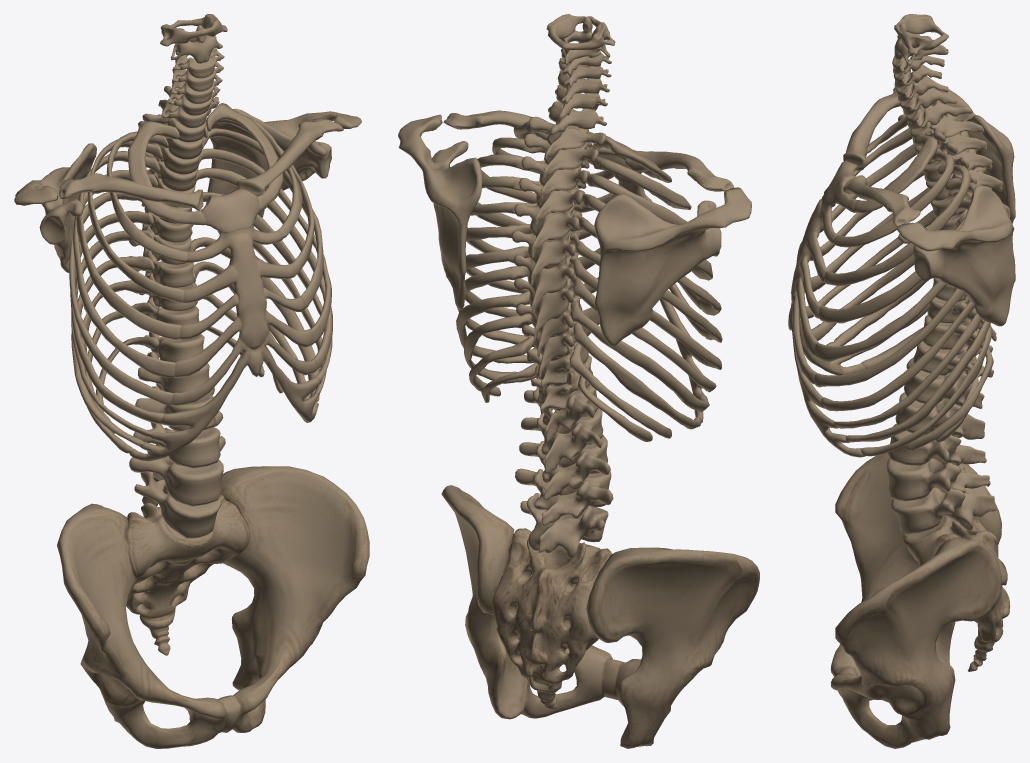
Rendered from Female_Torso_Skeleton.FBX.
The picture shows the model from 3 angles, left to right: view 1: azimuth 30°, elevation 25°; view 2: azimuth 150°, elevation 25°; view 3: azimuth 270°, elevation 25°; orthographic projection. The views are drawn at different scales.
Visible parts, largest first — view 1: Pelvis, Ribcage, Spine, Arm_L, Arm_R; view 2: Pelvis, Spine, Ribcage, Arm_R, Arm_L; view 3: Ribcage, Pelvis, Spine, Arm_L, Arm_R.
Boxes of the visible parts, x1,y1,x2,y2 form: Pelvis: (57, 466, 369, 748); Ribcage: (69, 103, 332, 461); Spine: (129, 14, 227, 538); Arm_L: (207, 108, 361, 234); Arm_R: (14, 143, 203, 272); Pelvis: (441, 485, 759, 748); Spine: (511, 14, 615, 558); Ribcage: (456, 121, 722, 441); Arm_R: (594, 151, 751, 346); Arm_L: (398, 110, 589, 310); Ribcage: (788, 105, 993, 457); Pelvis: (830, 453, 1010, 748); Spine: (887, 14, 1010, 535); Arm_L: (843, 175, 1015, 326); Arm_R: (843, 87, 1015, 223).
Bounding box in the file's own units: 39.25 × 76.98 × 22.71.
